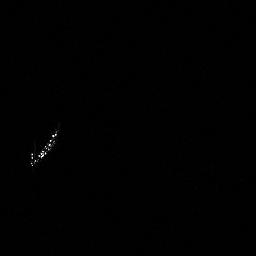ship: (25, 125, 63, 169)
